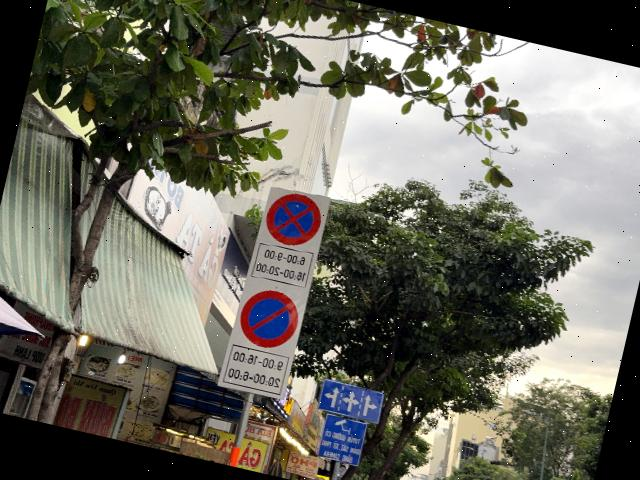cam-do-xe: (235, 284, 304, 353)
cam-dung-va-do-xe: (260, 186, 326, 251)
